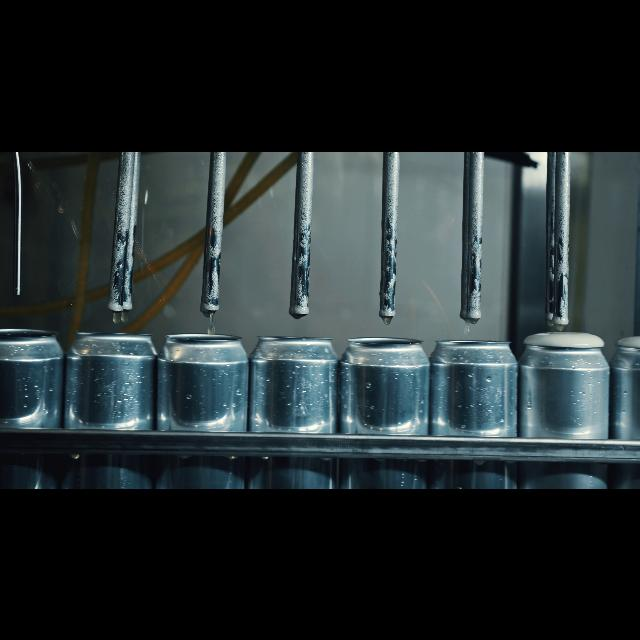empty: (160, 324, 248, 488), (70, 320, 154, 488), (343, 326, 427, 488), (256, 320, 334, 488), (435, 328, 511, 488), (2, 322, 62, 488)
full: (519, 322, 607, 488)
